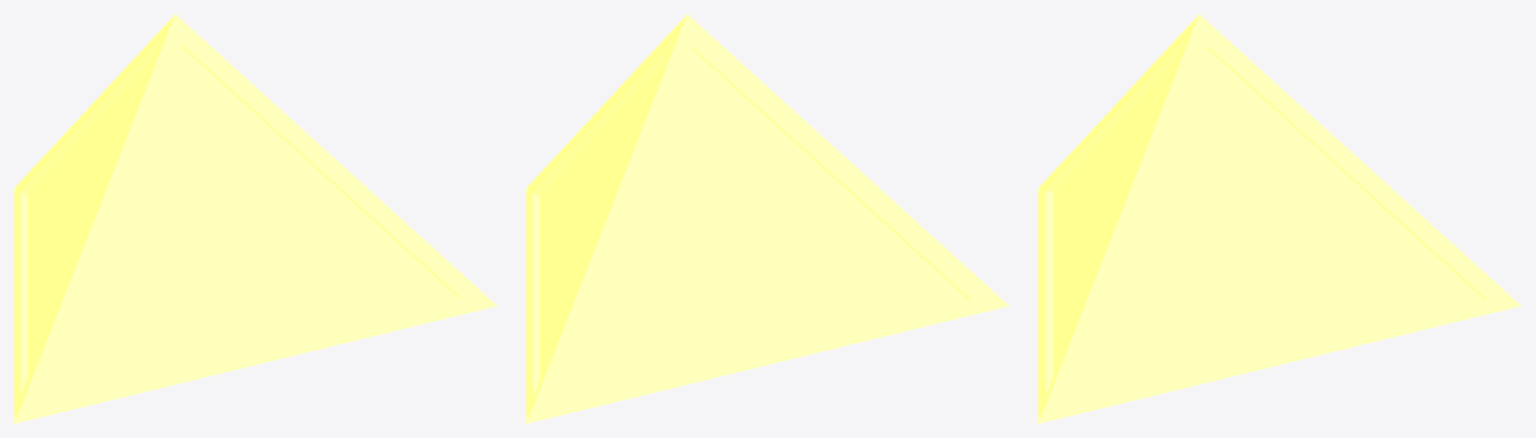
The model's file is SFI0310003.fbx.
3 renders of one model, left to right at view 1: azimuth 30°, elevation 25°; view 2: azimuth 150°, elevation 25°; view 3: azimuth 270°, elevation 25°, orthographic.
Visible parts, largest first — view 1: smSFI0310003; view 2: smSFI0310003; view 3: smSFI0310003.
Boxes of the visible parts, x1,y1,x2,y2 form: smSFI0310003: [14, 14, 496, 423]; smSFI0310003: [526, 14, 1008, 423]; smSFI0310003: [1038, 14, 1520, 423].
Size of the model in its own units: 173 by 100 by 150.
